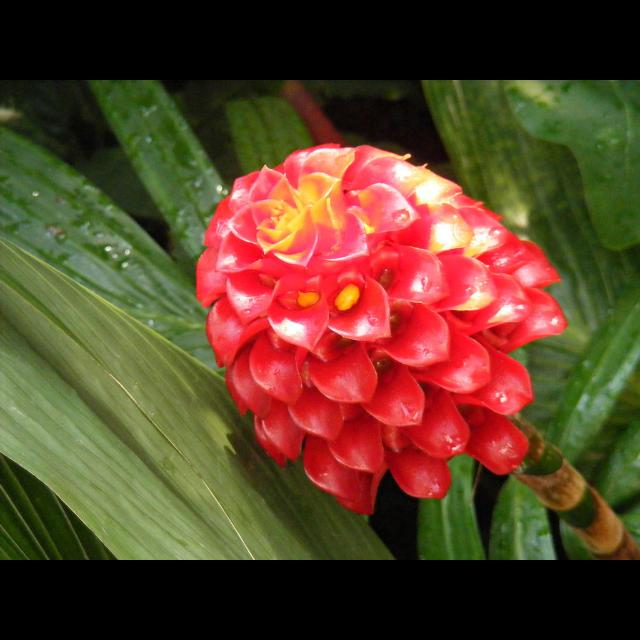Flower: (181, 124, 545, 512)
